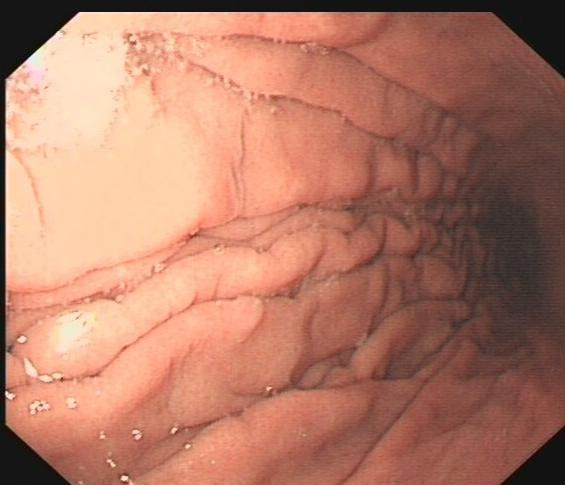Polyp: (221, 283, 272, 341)
